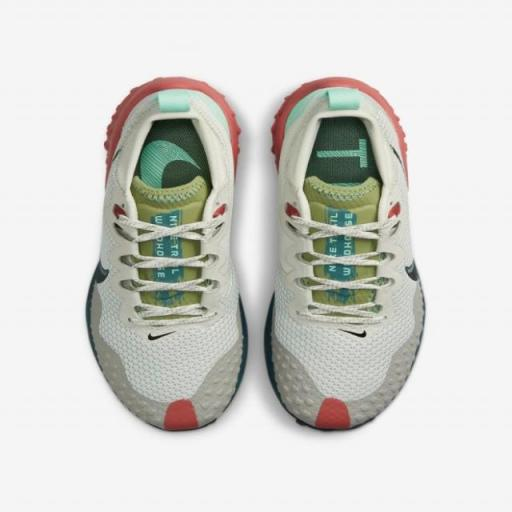Nike: (334, 324, 370, 340)
